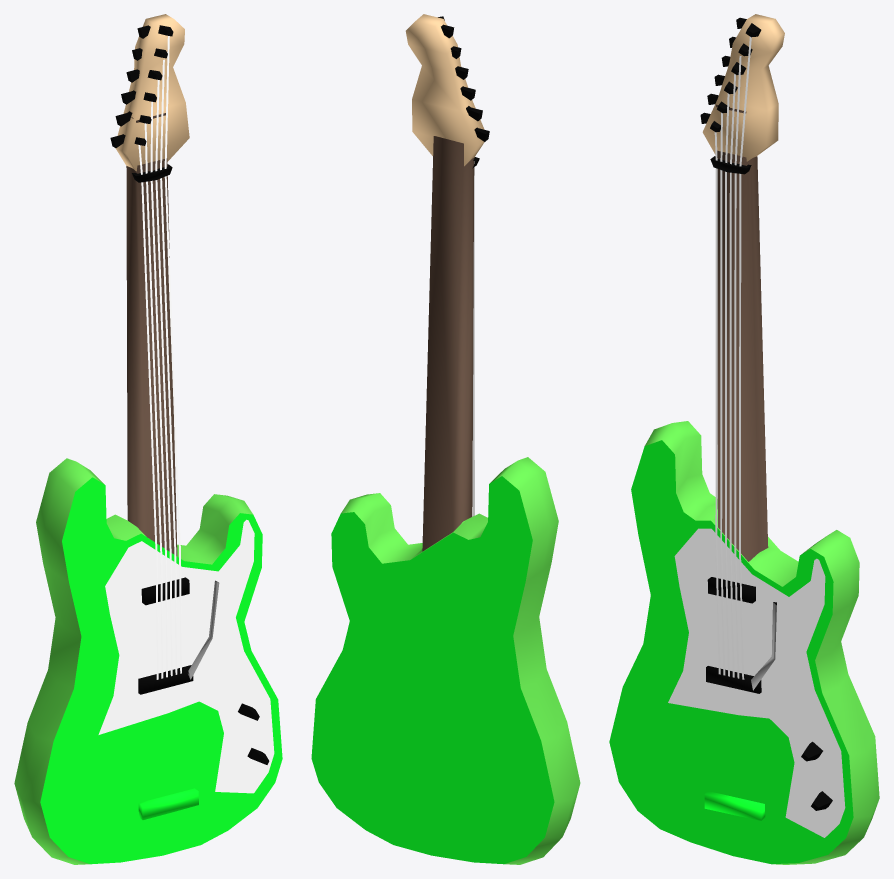
Rendered from GuitarElectricGreen.glb.
3 renders of one model, left to right at view 1: azimuth 30°, elevation 25°; view 2: azimuth 150°, elevation 25°; view 3: azimuth 330°, elevation 25°, orthographic.
Visible parts, largest first — view 1: GuitarElectricGreen; view 2: GuitarElectricGreen; view 3: GuitarElectricGreen.
Part boxes in pixels (x1,y1,x2,y2): GuitarElectricGreen: (14, 14, 282, 864); GuitarElectricGreen: (311, 14, 580, 864); GuitarElectricGreen: (609, 14, 879, 864).
Bounding box in the file's own units: 0.4159 × 1.31 × 0.1052.
Materials: 1 (1 with a texture image).
